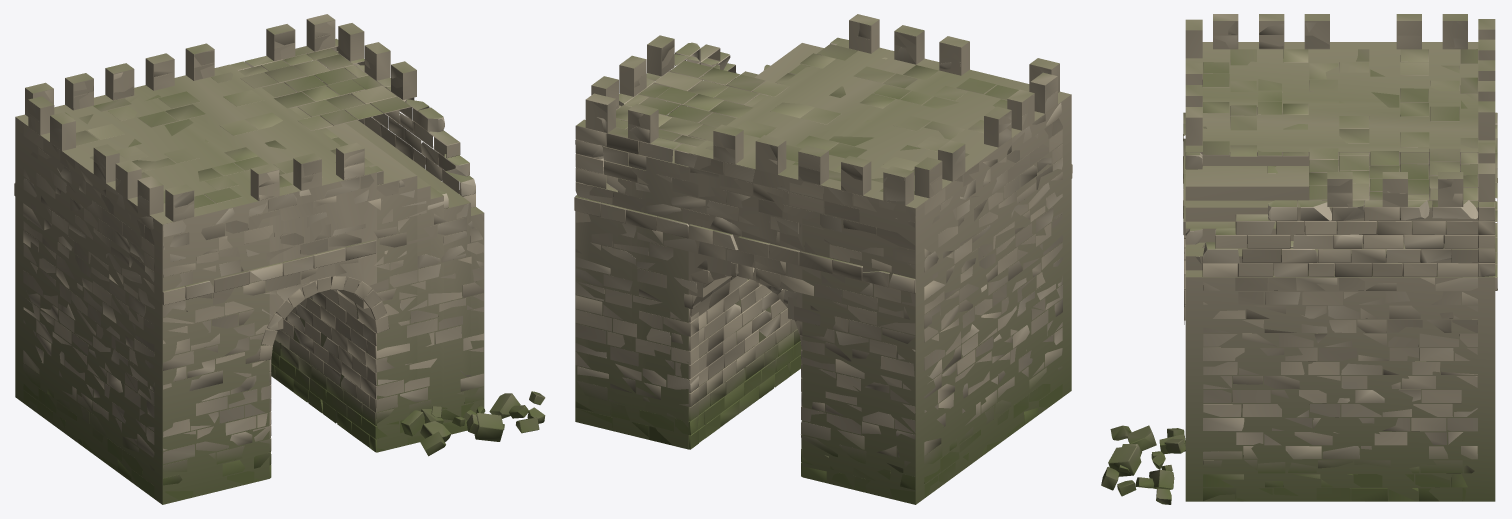
Rendered from citadel_gate.glb.
The picture shows the model from 3 angles, left to right: view 1: azimuth 30°, elevation 25°; view 2: azimuth 150°, elevation 25°; view 3: azimuth 270°, elevation 25°; orthographic projection. The views are drawn at different scales.
Parts seen in each view (by area): view 1: citadel_gate_far, citadel_gate; view 2: citadel_gate_far, citadel_gate; view 3: citadel_gate_far, citadel_gate.
Part boxes in pixels (bbox=[...]): citadel_gate_far: bbox=[15, 14, 484, 504]; citadel_gate: bbox=[14, 20, 545, 500]; citadel_gate_far: bbox=[575, 14, 1071, 504]; citadel_gate: bbox=[574, 23, 1072, 504]; citadel_gate_far: bbox=[1185, 14, 1495, 501]; citadel_gate: bbox=[1101, 21, 1497, 504].
Bounding box in the file's own units: 63.93 × 50.6 × 56.37.
